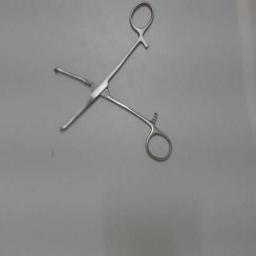Allis Tissue Forceps: (50, 0, 176, 166)
